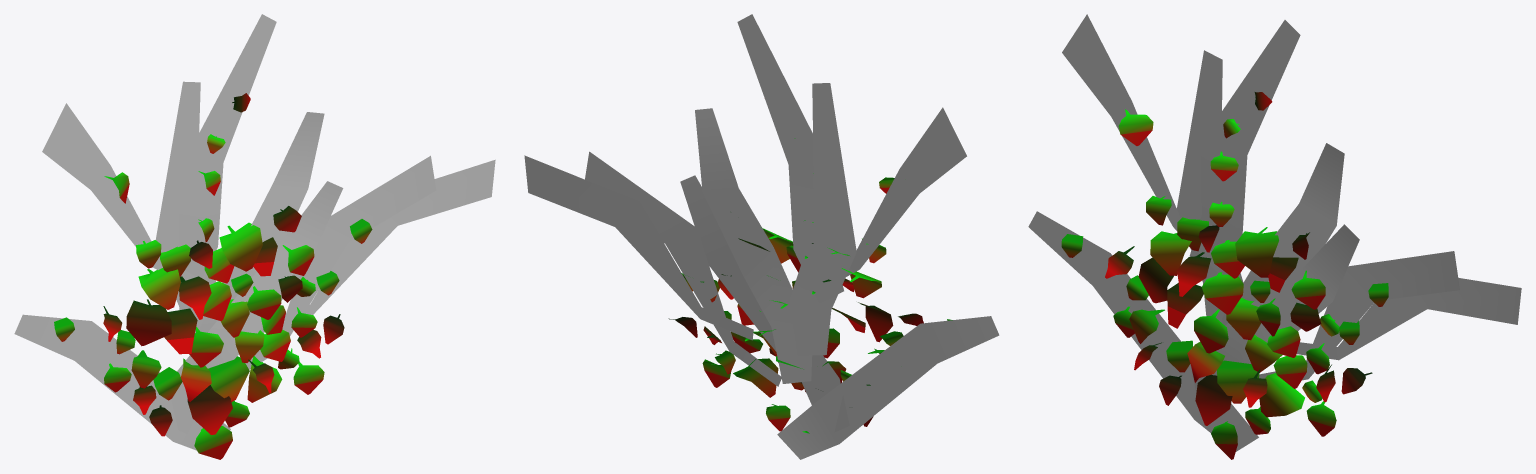
The model's file is Var6_LOD1.fbx.
The picture shows the model from 3 angles, left to right: view 1: azimuth 30°, elevation 25°; view 2: azimuth 150°, elevation 25°; view 3: azimuth 330°, elevation 25°; orthographic projection. The views are drawn at different scales.
Parts seen in each view (by area): view 1: _229d_Var6_LOD1; view 2: _229d_Var6_LOD1; view 3: _229d_Var6_LOD1.
Boxes of the visible parts, bbox=[...] form: _229d_Var6_LOD1: bbox=[14, 14, 495, 459]; _229d_Var6_LOD1: bbox=[524, 14, 999, 459]; _229d_Var6_LOD1: bbox=[1028, 14, 1521, 459].
Bounding box in the file's own units: 63.91 × 55.13 × 6.86.
